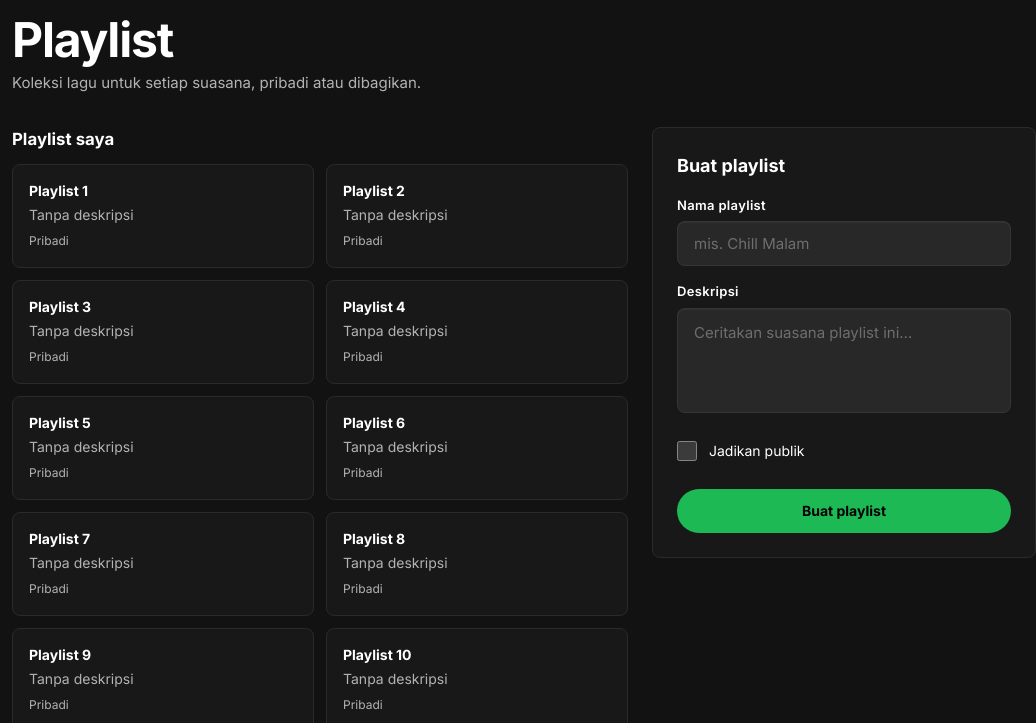
Test case: PlaylistsPage pagination › keeps a new public playlist in both lists without appending it twice
The image size is (1036, 723).
Check: the text "Playlist 1" is shown, box [29, 182, 88, 199]
Type "Baru publik" into the field labelled "Nama playlist" at (844, 244), box [678, 222, 1010, 265]
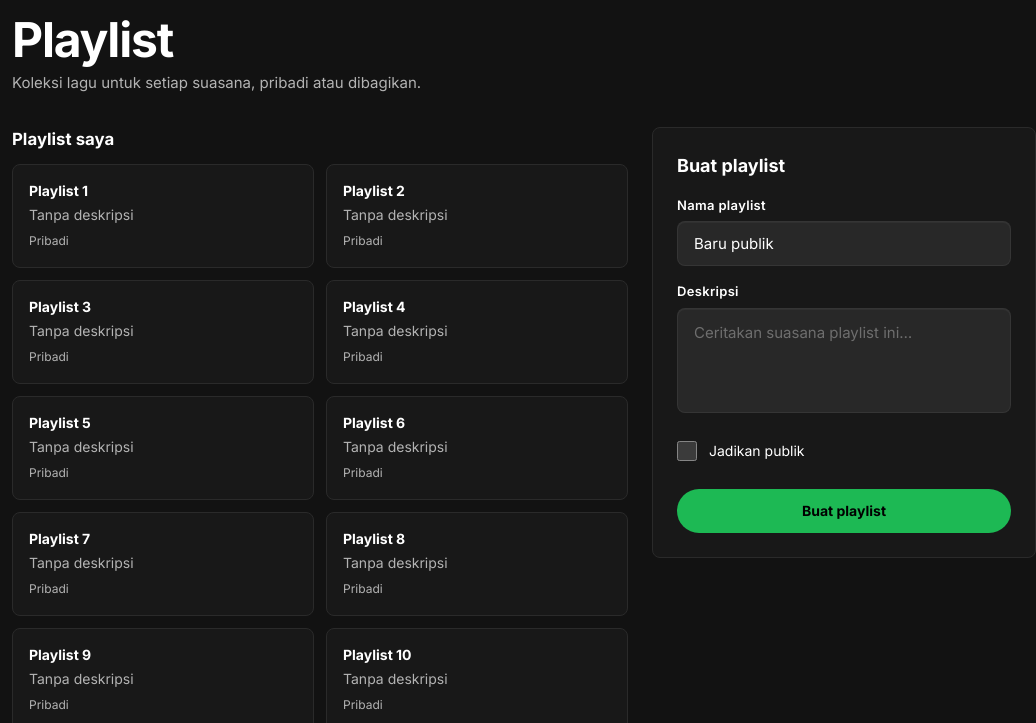
Click the checkbox labelled "Jadikan publik" at (687, 451), box [677, 441, 697, 461]
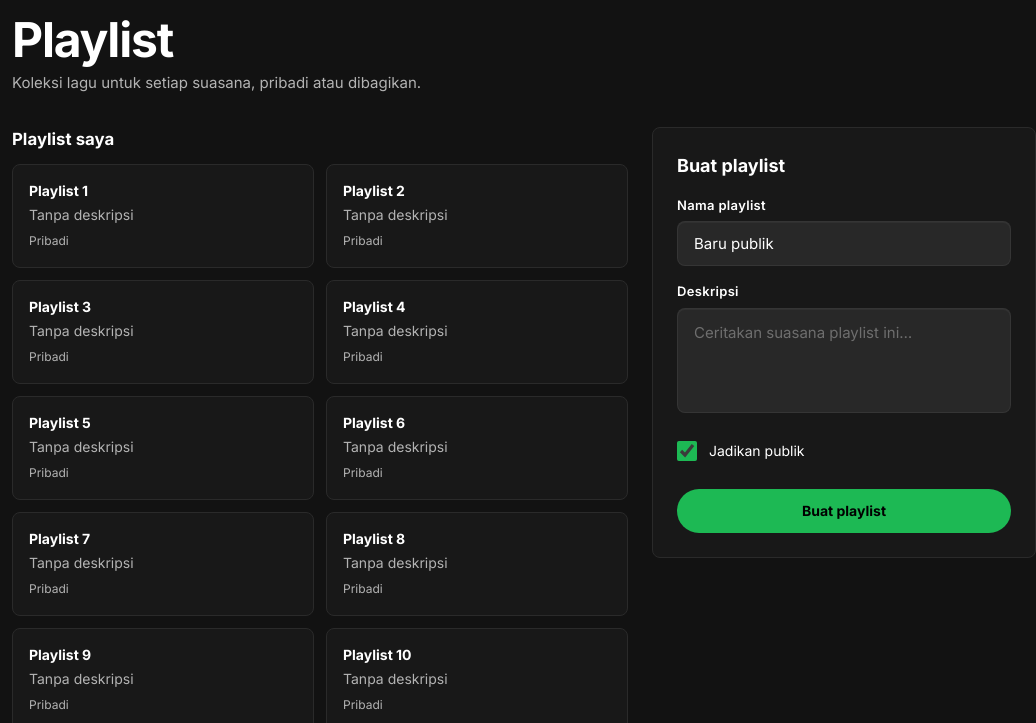
Click the button "Buat playlist" at (844, 511), box [677, 489, 1011, 533]
(page scrolled)
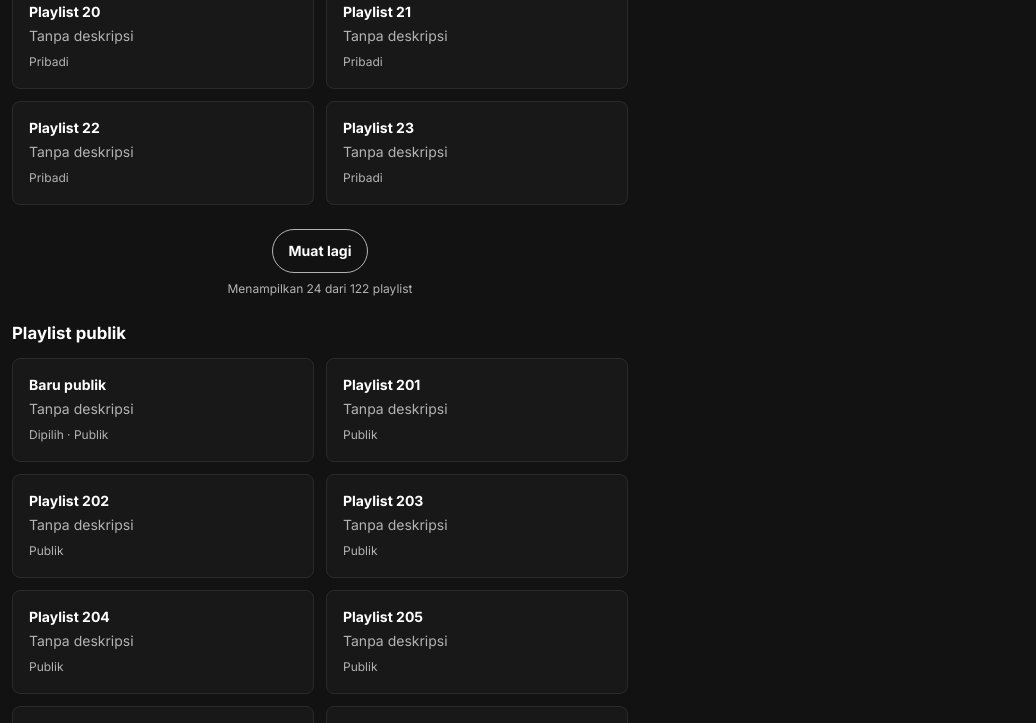
Check: the text "Baru publik" is shown, box [29, 376, 106, 393]
